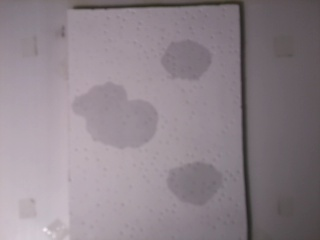Water_detected: (80, 96, 155, 138), (179, 171, 215, 195), (171, 42, 194, 67)
